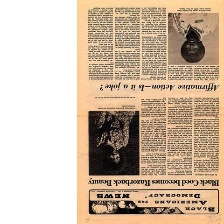news_paper: (76, 0, 224, 224)
